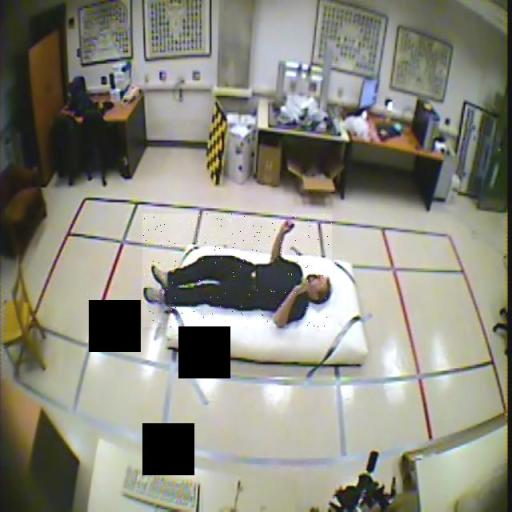Fall: (142, 214, 332, 327)
